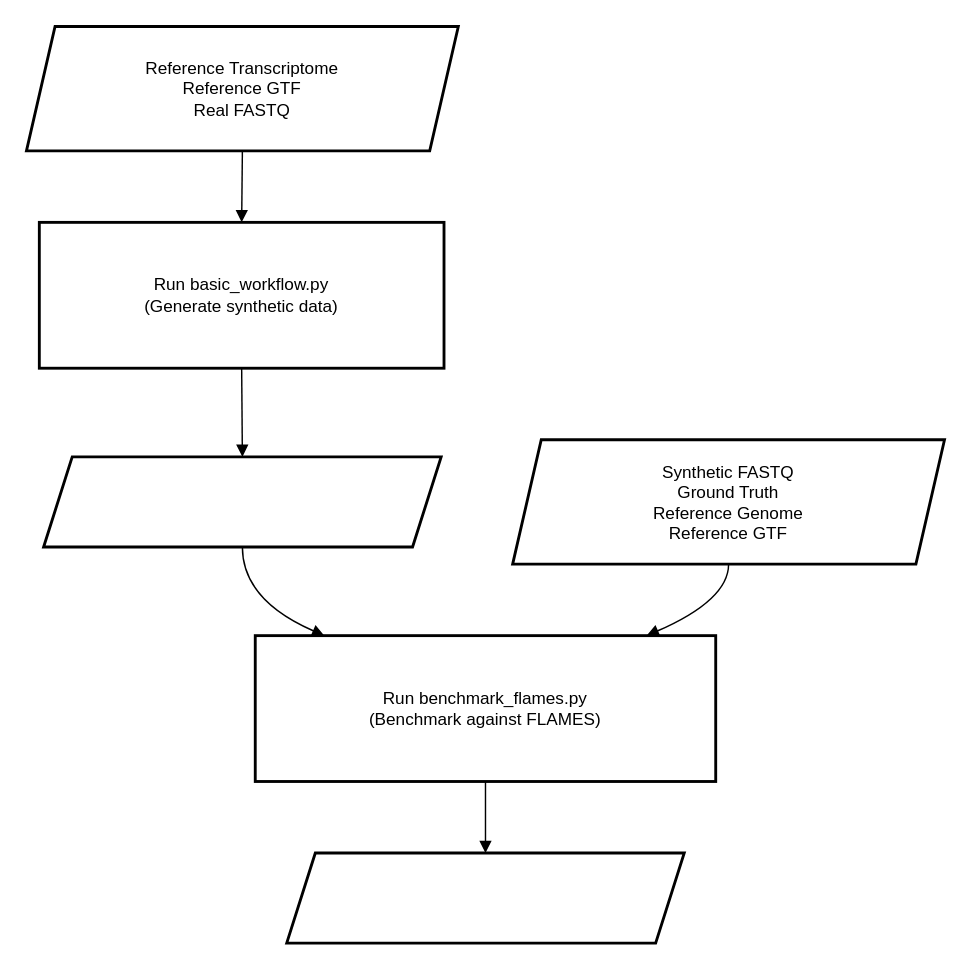
This 970x968 diagram has some shape labels left out. Each missing label, with the box of its shape:
Benchmark Metrics Visualization Plots: (285, 851, 685, 944)
Synthetic FASTQ Ground Truth CSV: (41, 455, 442, 548)
